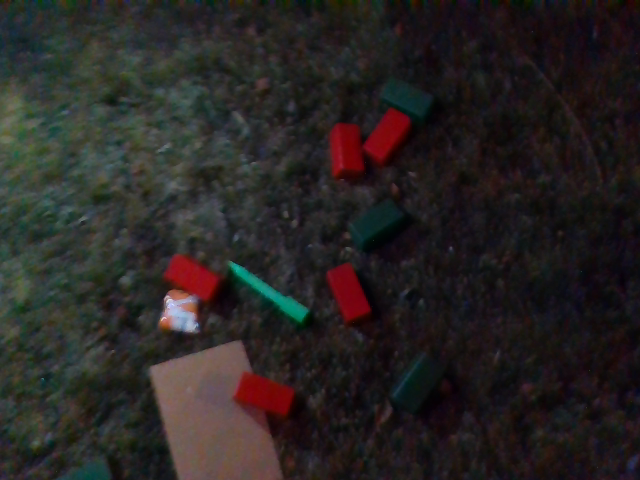Probe: (225, 258, 313, 324)
